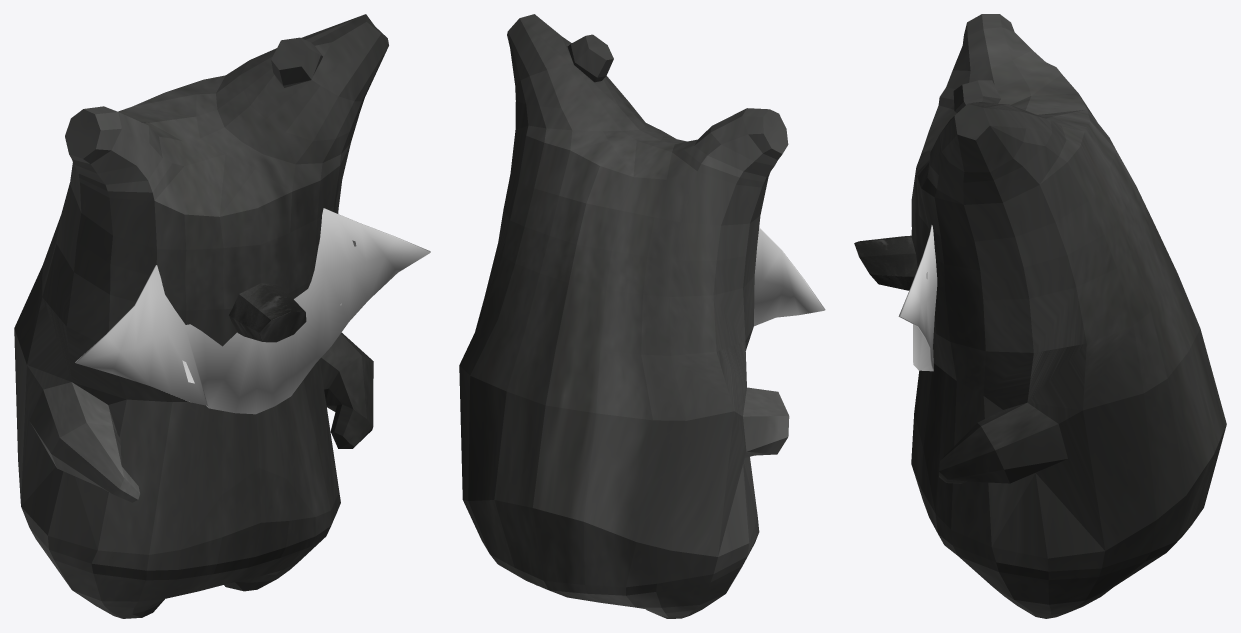
The model's file is frame_0004.obj.
3 views of the same model, side by side, from view 1: azimuth 30°, elevation 25°; view 2: azimuth 150°, elevation 25°; view 3: azimuth 270°, elevation 25° (orthographic). The views are drawn at different scales.
Parts seen in each view (by area): view 1: korok, leaf, nose; view 2: korok, leaf; view 3: korok, leaf, nose.
Boxes of the visible parts, bbox=[...] form: korok: bbox=[14, 14, 388, 618]; leaf: bbox=[75, 208, 430, 414]; nose: bbox=[229, 283, 306, 342]; korok: bbox=[459, 14, 789, 618]; leaf: bbox=[754, 227, 825, 326]; korok: bbox=[911, 14, 1226, 618]; leaf: bbox=[898, 225, 937, 371]; nose: bbox=[854, 235, 917, 290].
Bounding box in the file's own units: 1.33 × 2.22 × 1.37.
